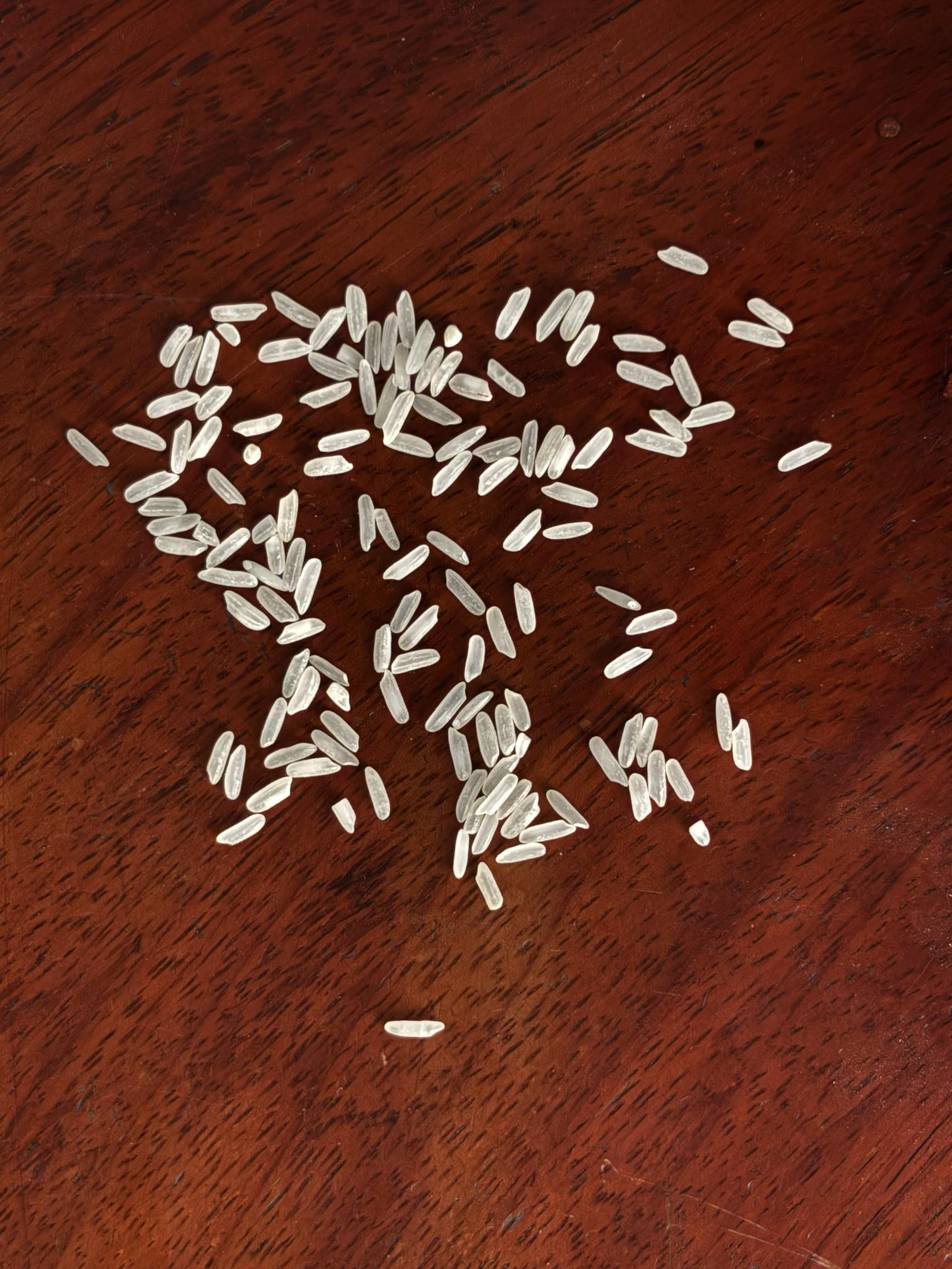Rice-th-y-nh: (532, 288, 576, 341), (424, 683, 468, 732), (270, 290, 321, 330), (430, 450, 473, 497), (494, 287, 532, 340), (444, 569, 486, 616), (398, 605, 440, 651), (588, 736, 627, 785), (221, 591, 270, 630), (625, 428, 688, 458), (545, 789, 591, 830), (572, 427, 614, 471), (205, 527, 250, 568), (500, 793, 540, 839), (559, 290, 595, 341), (435, 426, 486, 462), (746, 297, 794, 335), (503, 508, 544, 552), (476, 772, 517, 816), (616, 359, 670, 392), (311, 730, 359, 767), (381, 392, 415, 444), (475, 456, 518, 497), (777, 440, 831, 472), (404, 320, 436, 374), (308, 307, 347, 351), (532, 424, 565, 476), (669, 355, 702, 407), (727, 319, 784, 349), (384, 544, 430, 581), (411, 393, 461, 427), (124, 471, 177, 503), (246, 776, 293, 812), (428, 349, 463, 397), (564, 323, 602, 367), (171, 336, 203, 388), (320, 711, 359, 753), (287, 667, 321, 715), (293, 558, 322, 614), (658, 245, 710, 276), (455, 769, 486, 821), (67, 428, 108, 467), (543, 481, 598, 510), (485, 606, 516, 657), (378, 672, 409, 723), (486, 358, 526, 397), (452, 691, 493, 729), (206, 468, 247, 506), (482, 754, 520, 795), (256, 587, 298, 624), (412, 346, 445, 393), (187, 417, 222, 461), (682, 400, 736, 428), (158, 324, 193, 367), (280, 648, 310, 698), (649, 408, 693, 442), (604, 647, 652, 678), (258, 336, 311, 364), (199, 565, 258, 590), (242, 559, 288, 591), (112, 424, 166, 451), (364, 766, 391, 820), (194, 332, 221, 386), (218, 815, 265, 846), (206, 731, 234, 783), (259, 698, 288, 748), (427, 531, 469, 565), (308, 352, 357, 381), (390, 590, 422, 634), (147, 390, 199, 417), (300, 382, 352, 409), (344, 285, 369, 341), (475, 435, 521, 465), (317, 428, 370, 454), (475, 713, 500, 768), (194, 385, 232, 421), (625, 608, 677, 634), (264, 742, 314, 769), (276, 617, 326, 644), (475, 864, 504, 910), (511, 583, 537, 634), (664, 757, 694, 801), (309, 654, 350, 686), (209, 301, 266, 324), (447, 728, 472, 780), (281, 538, 306, 590), (223, 746, 247, 800), (355, 494, 378, 550), (373, 377, 398, 428), (390, 648, 441, 673), (275, 490, 300, 541), (385, 432, 434, 458), (618, 714, 642, 767), (518, 820, 573, 843), (395, 290, 418, 345), (547, 435, 575, 480), (147, 513, 201, 536), (450, 372, 492, 401), (713, 694, 735, 749), (646, 750, 668, 805), (233, 414, 283, 438), (169, 422, 192, 474), (494, 704, 518, 753), (627, 774, 652, 821), (519, 419, 539, 477), (357, 360, 378, 415), (635, 718, 659, 766), (374, 509, 401, 551), (596, 586, 641, 611), (154, 535, 205, 557), (731, 720, 753, 771), (379, 315, 399, 371), (612, 332, 665, 353), (303, 455, 353, 477), (504, 690, 531, 730), (384, 1020, 444, 1038), (287, 757, 338, 778), (472, 814, 498, 854), (464, 635, 486, 682), (363, 322, 382, 373), (496, 843, 544, 863), (392, 343, 412, 389), (543, 522, 592, 540), (373, 625, 391, 672), (139, 497, 186, 515), (263, 536, 284, 575), (331, 799, 355, 833), (453, 830, 469, 878), (251, 515, 277, 544), (337, 343, 364, 370), (193, 520, 220, 545), (326, 683, 350, 711), (216, 322, 241, 346), (689, 820, 710, 846), (443, 323, 464, 349), (514, 734, 531, 758)
